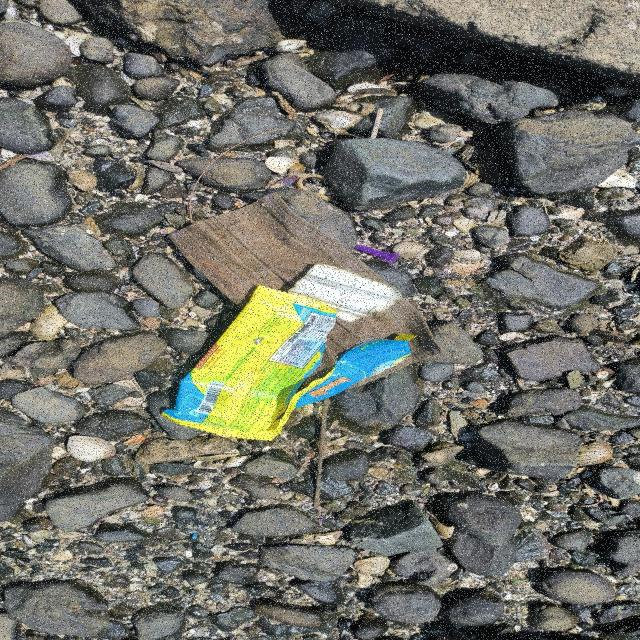plastic_waste: (160, 285, 420, 443)
